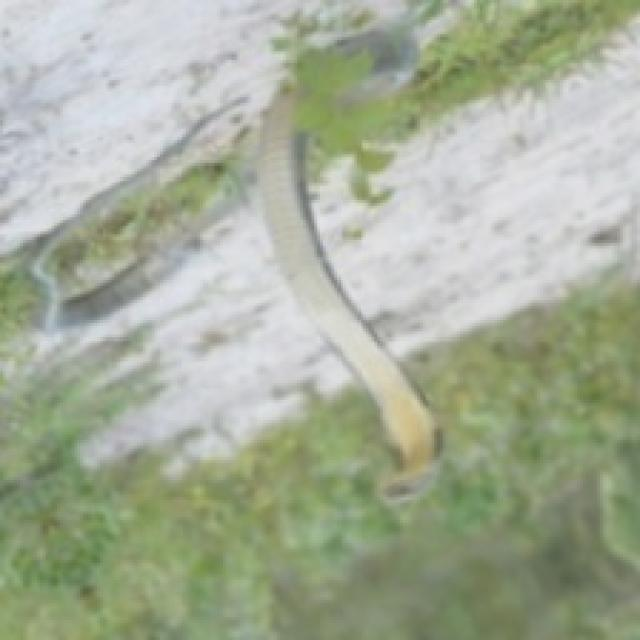king cobra: (254, 86, 437, 494), (257, 83, 434, 494), (34, 97, 243, 323)
